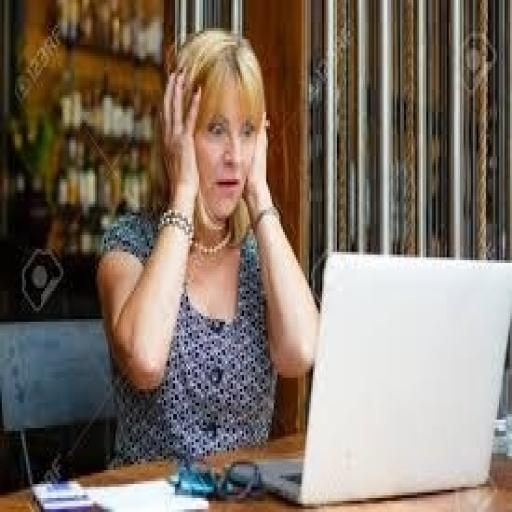using_laptop: (246, 246, 510, 506)
